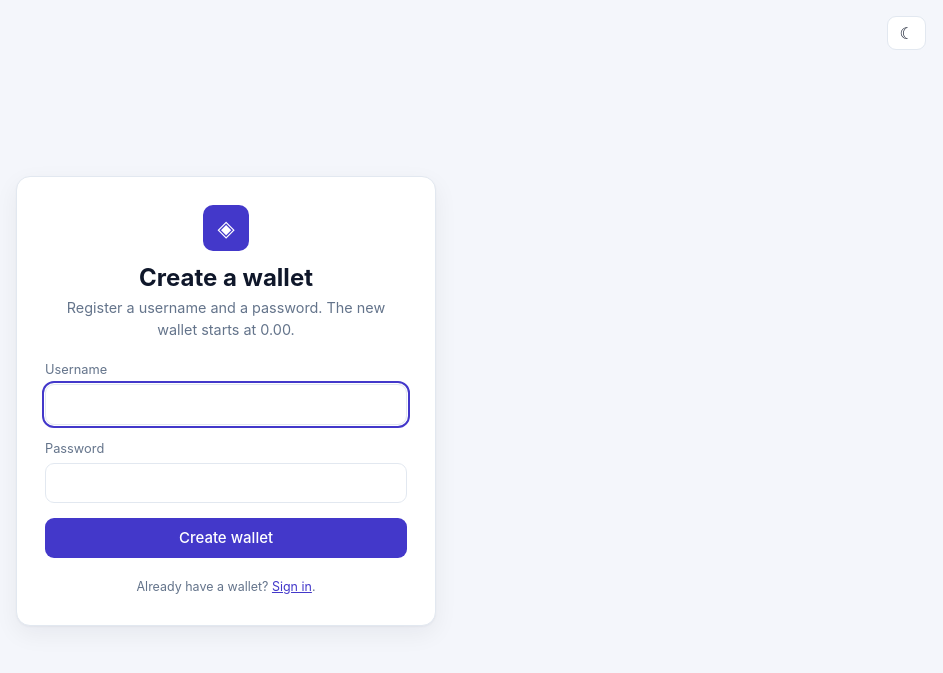
register › shows the API message when the username is taken and stays on the form
This screenshot has width=943, height=673.
Type "admin" into the field labelled "Username". click: x=226, y=404
box: 45,384 -> 407,425
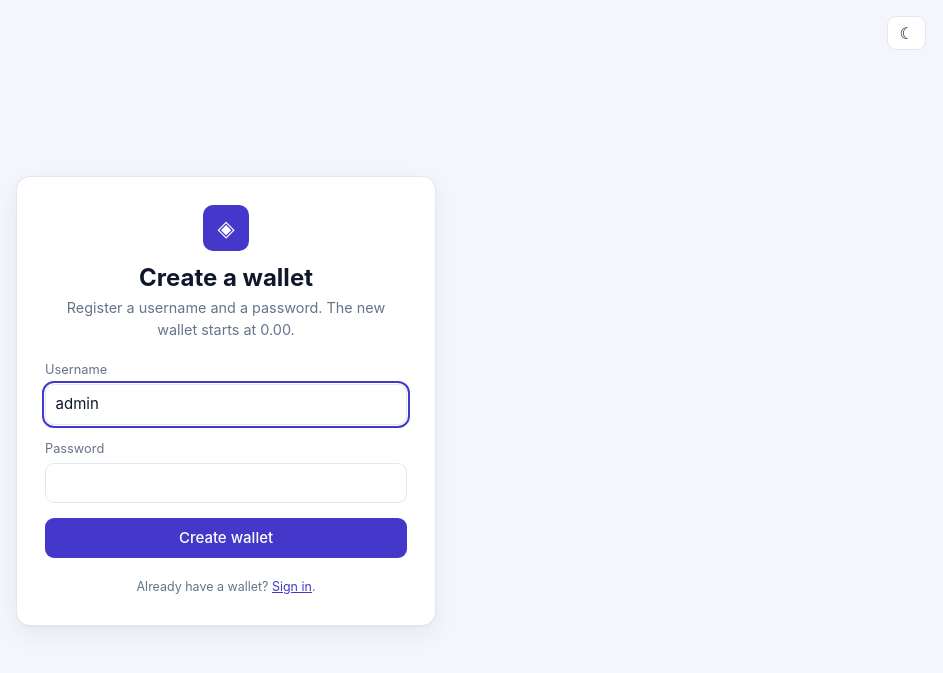
Type "admin12345" into the password field labelled "Password". click: x=226, y=483
box: 45,463 -> 407,504
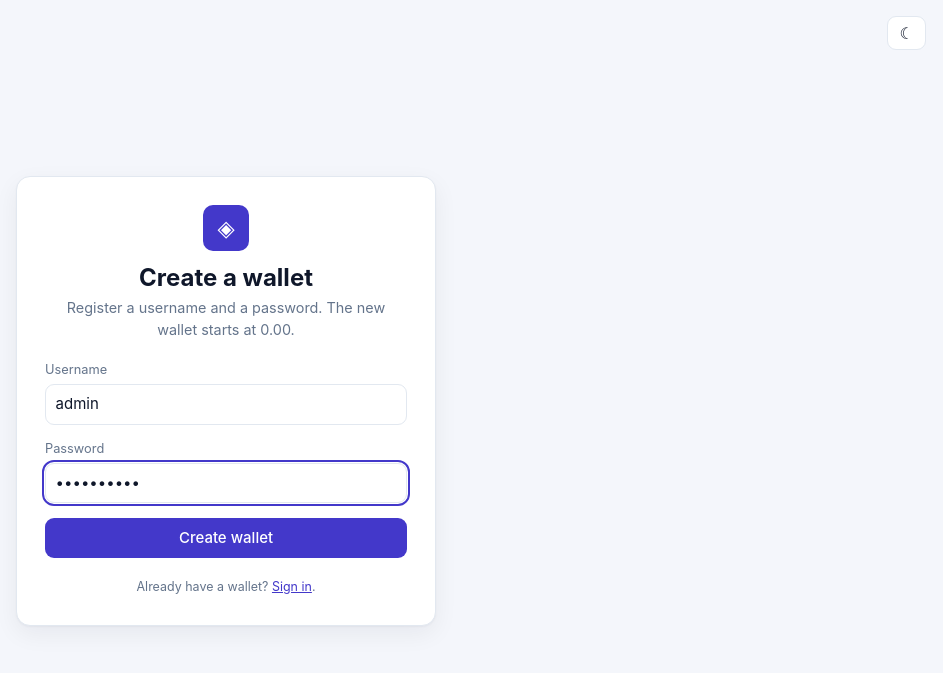
Click the button "Create wallet". click: x=226, y=538
box: 45,518 -> 407,558
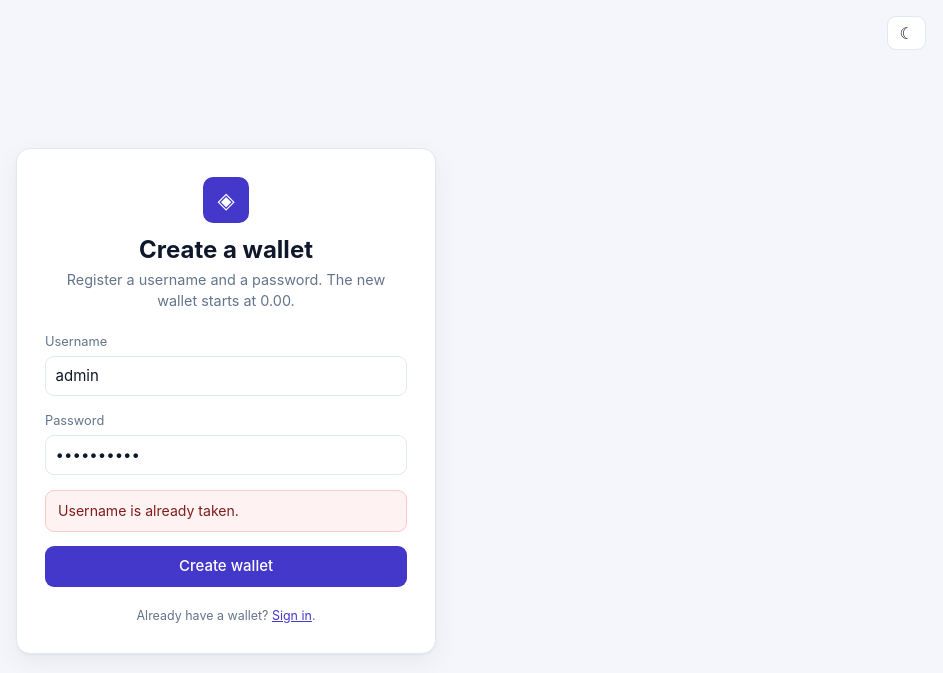
Check: the heading "Create a wallet" is shown, box 139,235 -> 313,264
Check: the message reads "Username is already taken.", box 58,502 -> 239,519
